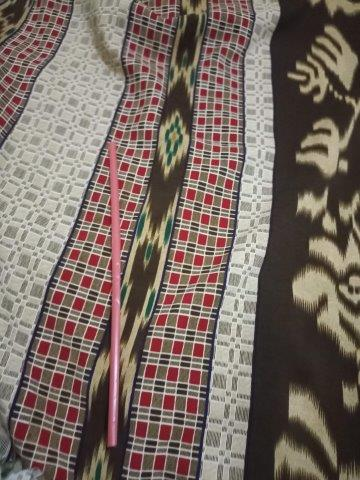sedotan: (107, 142, 120, 445)
